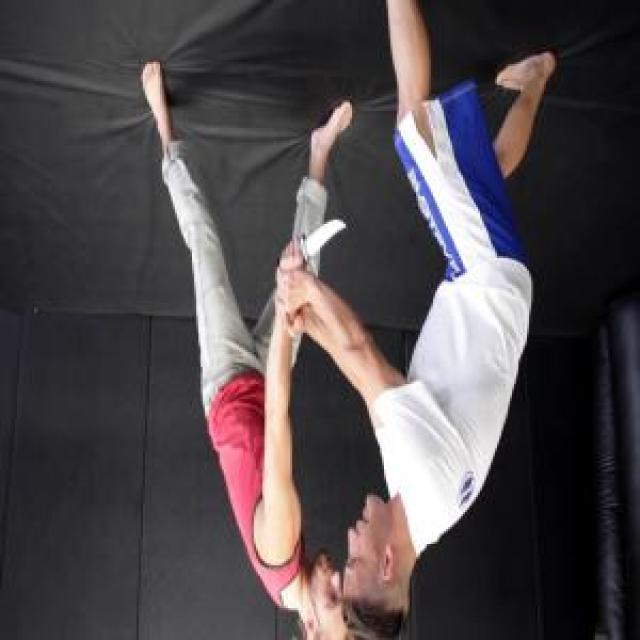knife: (273, 211, 351, 273)
